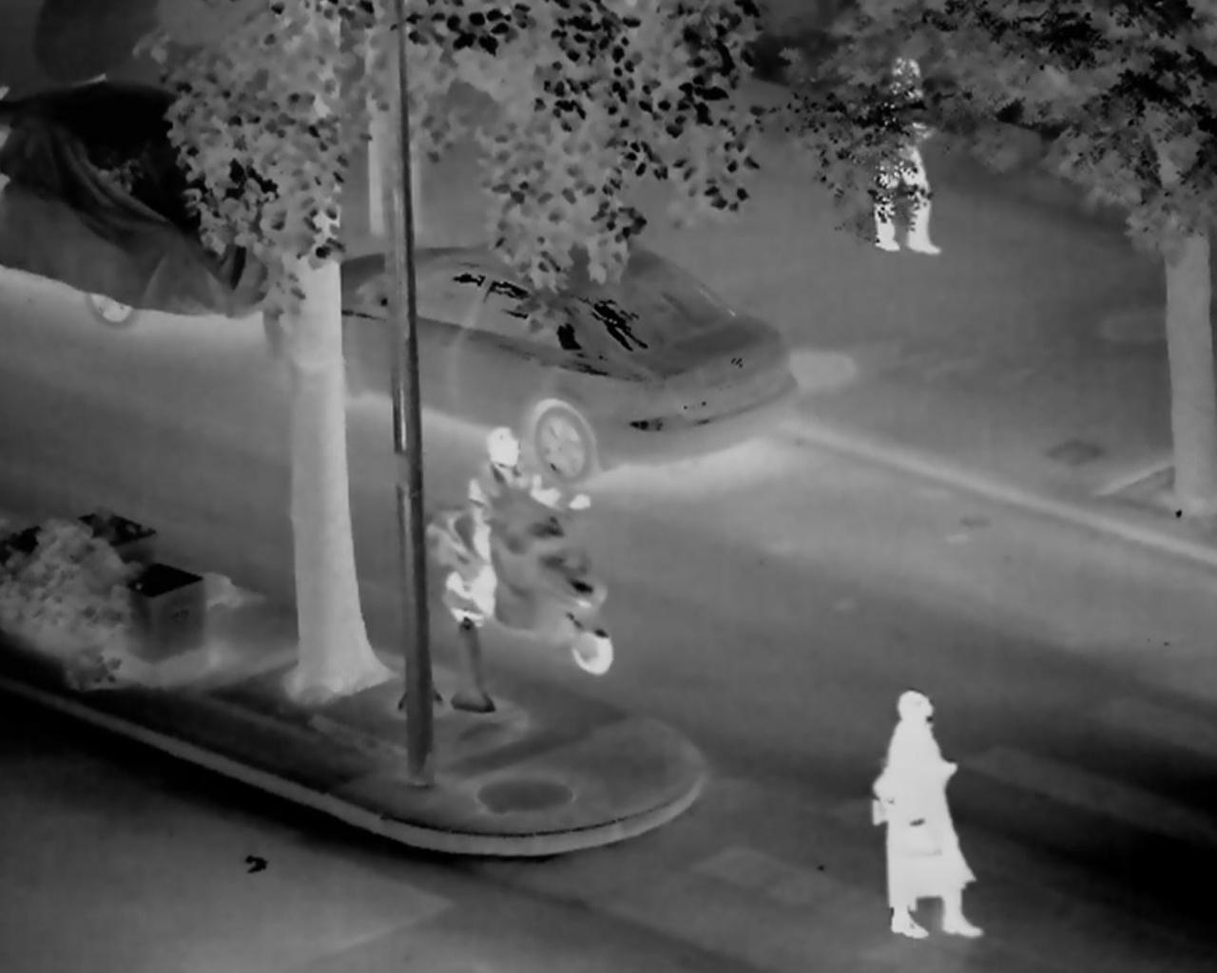person: (844, 672, 1022, 951), (453, 418, 580, 676), (864, 38, 953, 273)
